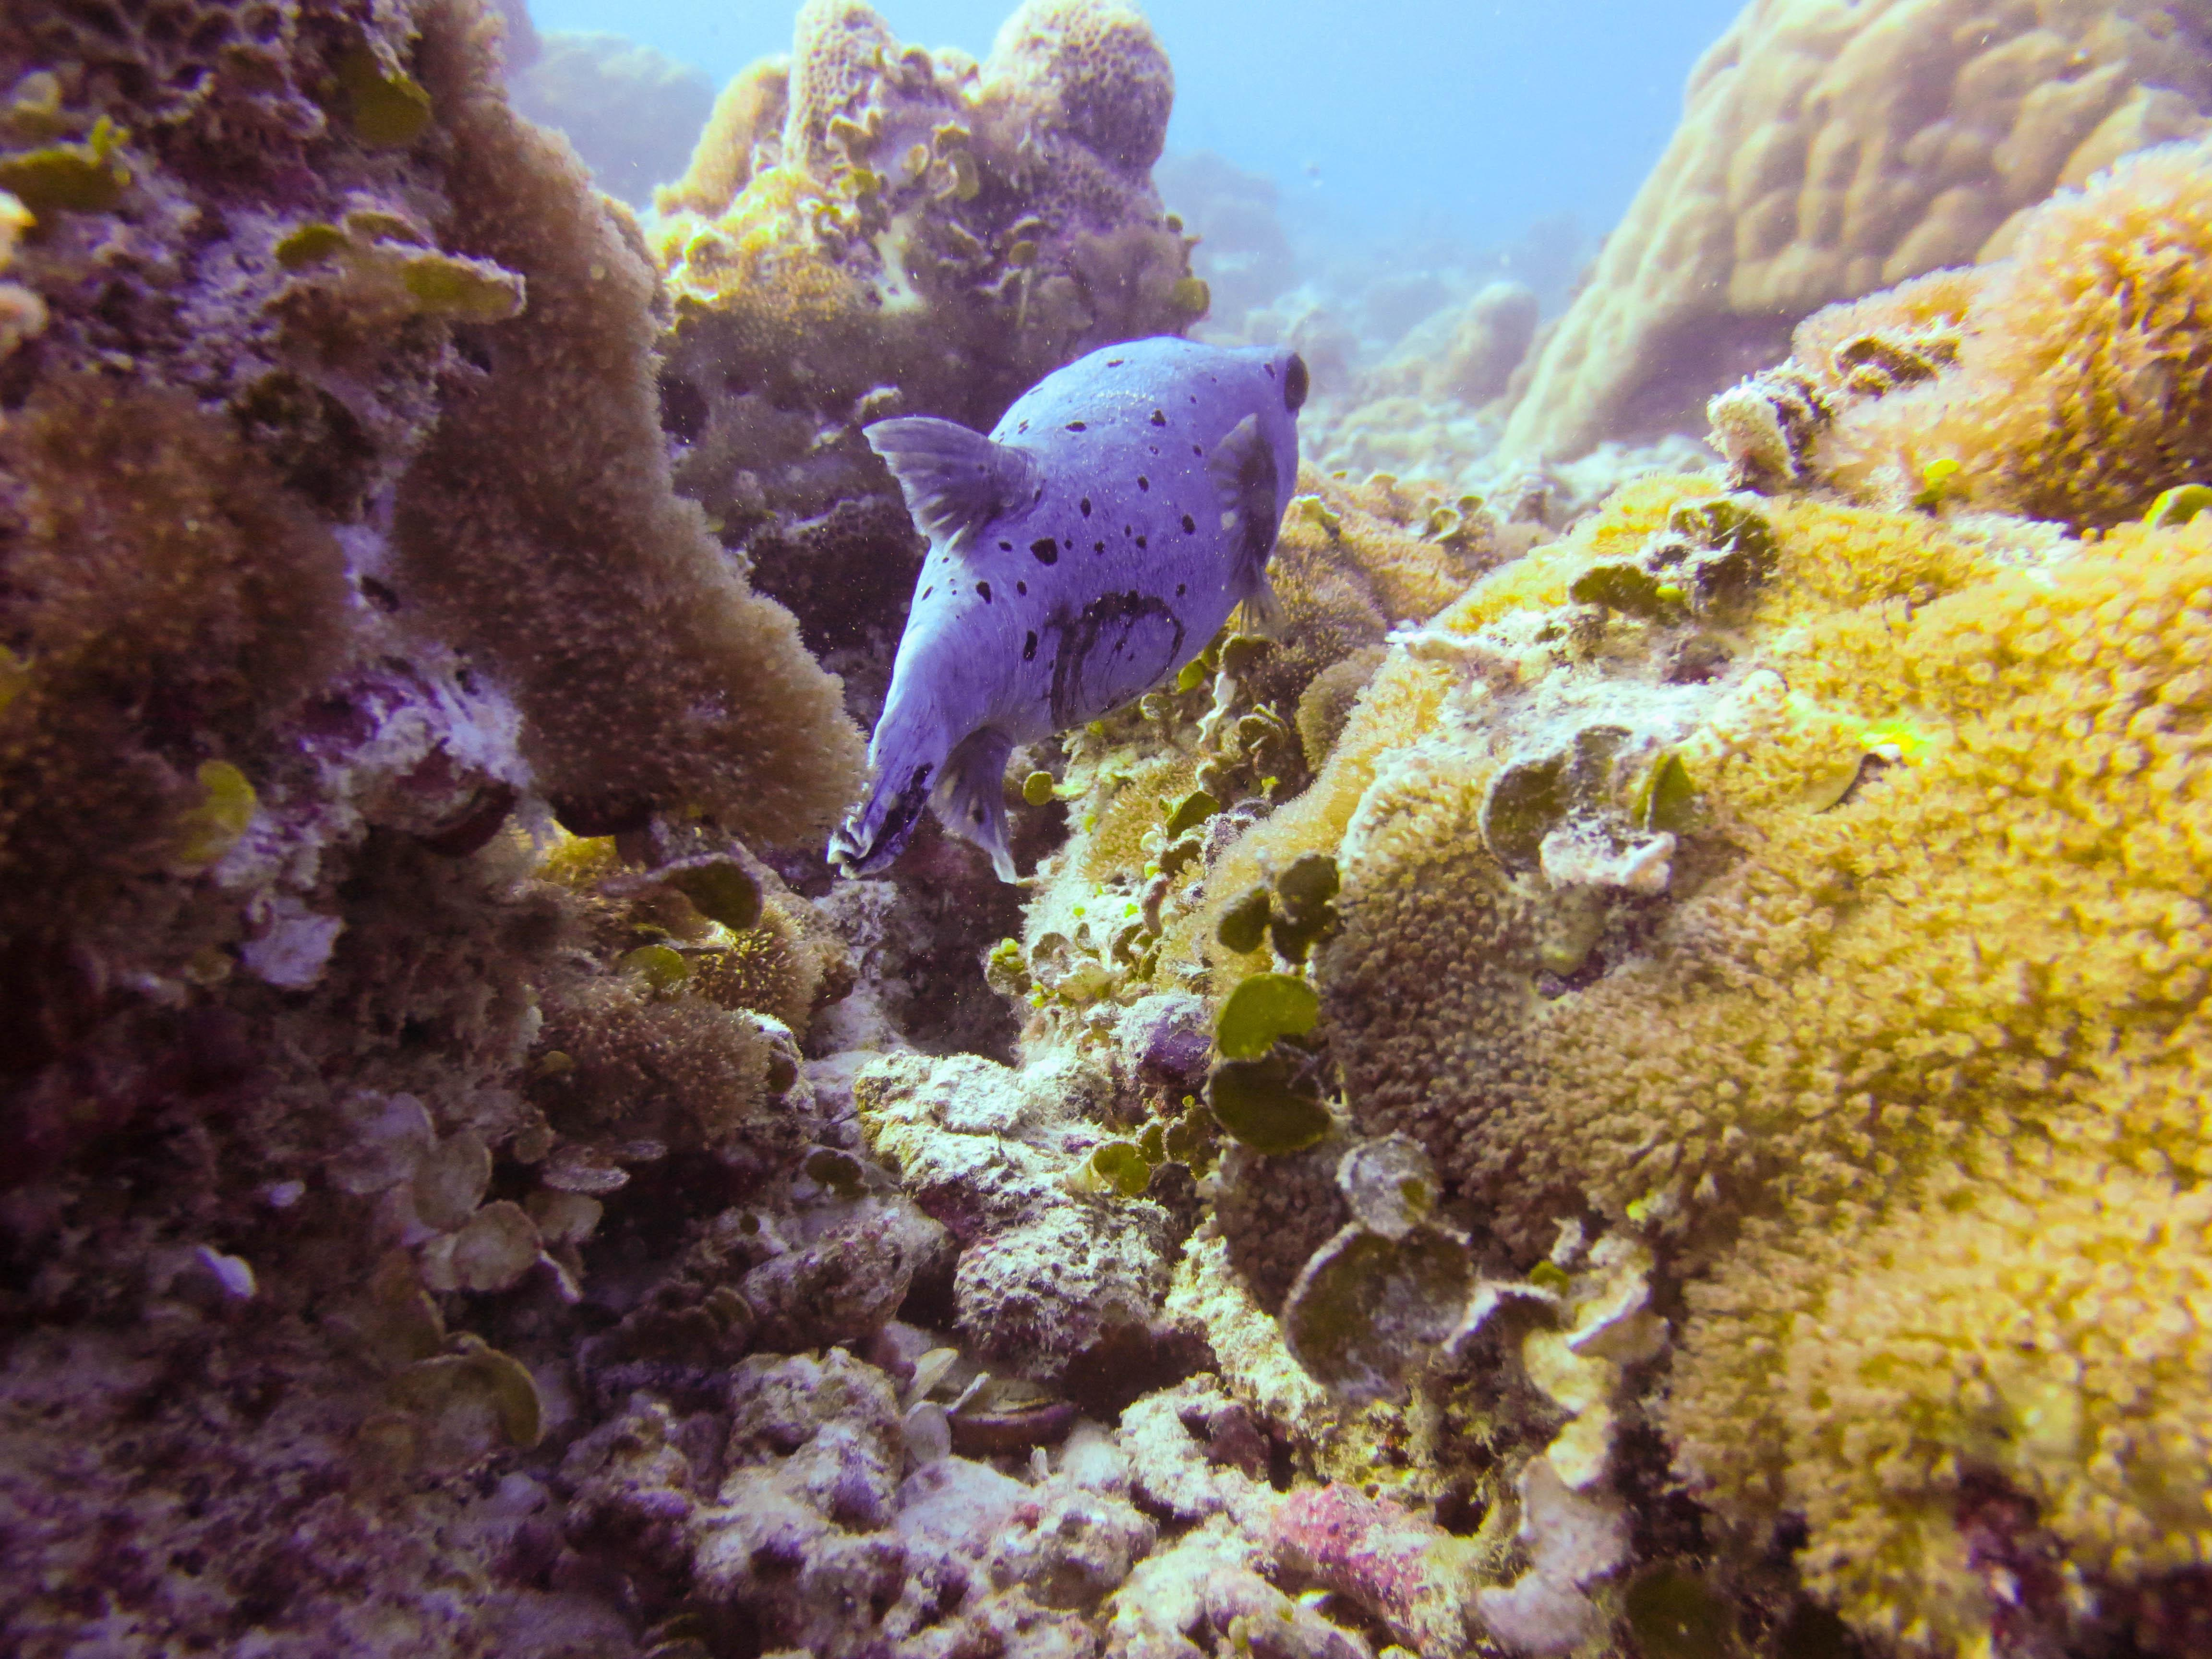Fish: (740, 289, 1350, 927)
